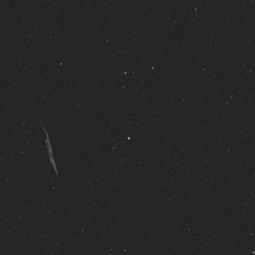smart_1: (21, 99, 126, 182)
